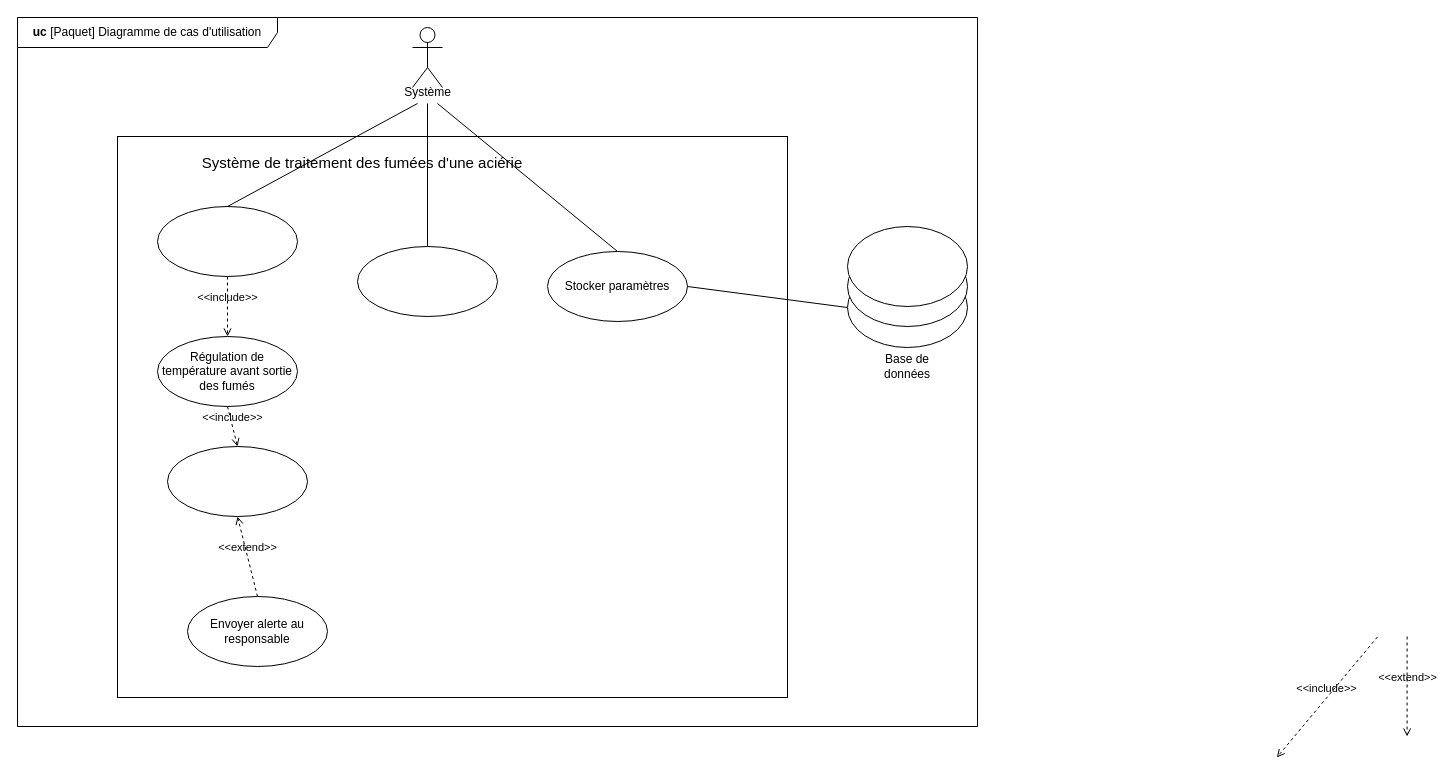
The diagram is 1454 pixels wide and 783 high, and some of its shapes have lost their labels. Here are the shapes that lost their labels. From the top down, the centre of each, then its label:
(x=227, y=241): Mesure de paramètre
(x=427, y=281): Permettre de visualiser les paramètres
(x=237, y=481): Détecter dépassement des seuils
